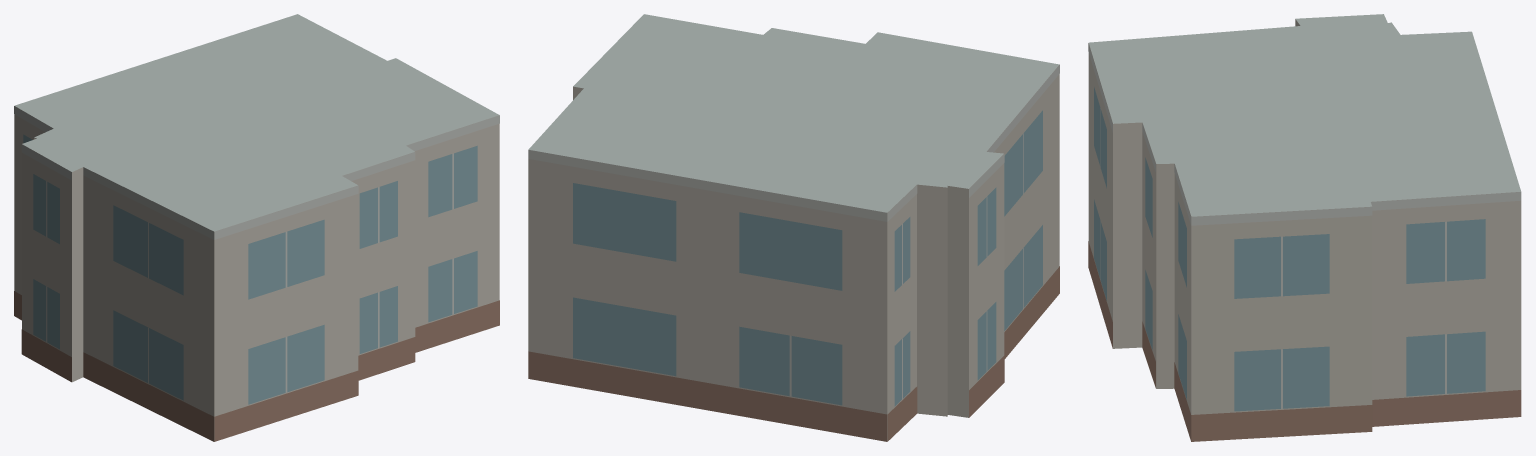
File: survey-upis-32609707.glb
3 renders of one model, left to right at view 1: azimuth 30°, elevation 25°; view 2: azimuth 150°, elevation 25°; view 3: azimuth 270°, elevation 25°, orthographic. The views are drawn at different scales.
Parts seen in each view (by area): view 1: survey-upis-32609707.tmp; view 2: survey-upis-32609707.tmp; view 3: survey-upis-32609707.tmp.
Part boxes in pixels (x1=…): survey-upis-32609707.tmp: x1=14, y1=14, x2=499, y2=441; survey-upis-32609707.tmp: x1=528, y1=14, x2=1059, y2=441; survey-upis-32609707.tmp: x1=1088, y1=14, x2=1521, y2=441.
Size of the model in its own units: 11.8 by 6.1 by 10.64.
